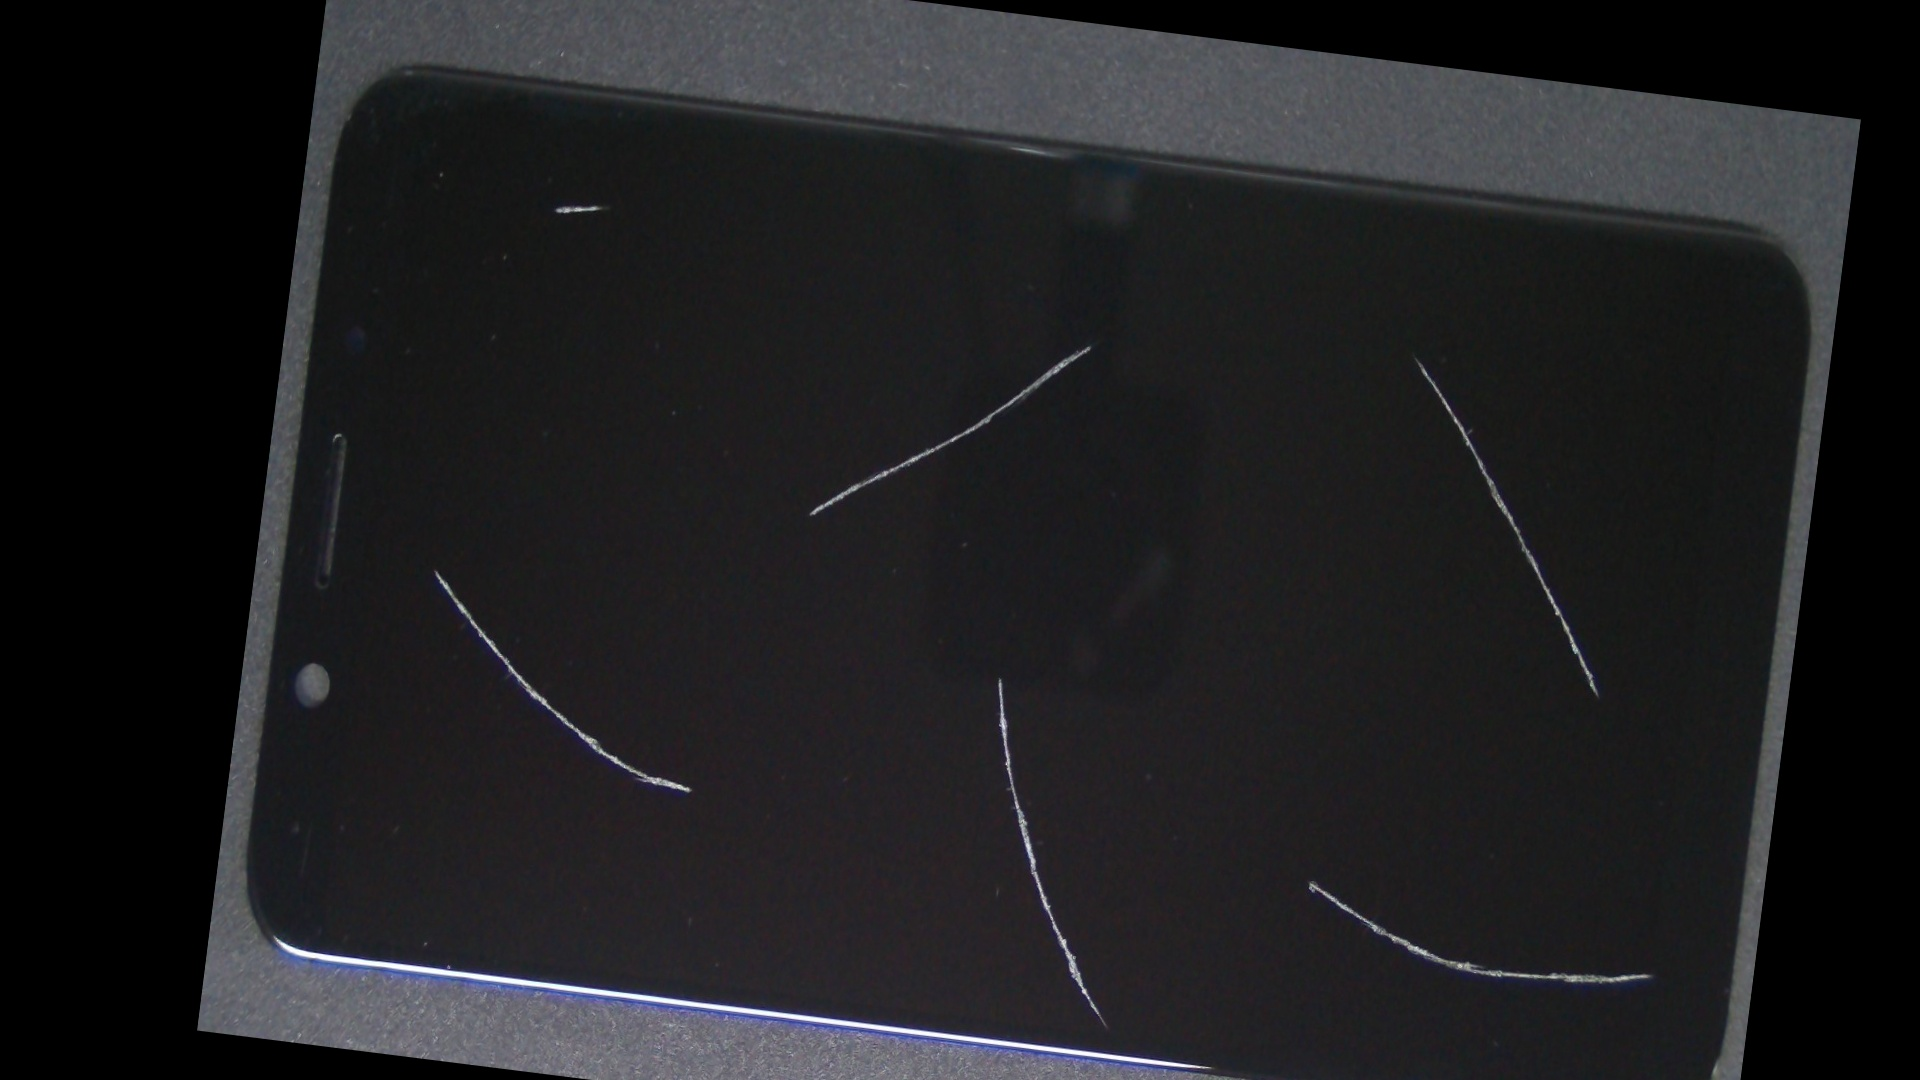oil: (736, 401, 1811, 1080), (584, 302, 1414, 1054), (836, 140, 1844, 555), (674, 136, 1510, 555), (307, 248, 562, 890), (436, 66, 758, 345)
